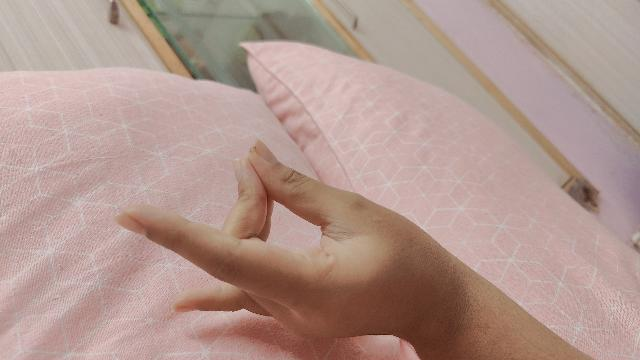sinhamukh: (115, 139, 593, 360)
